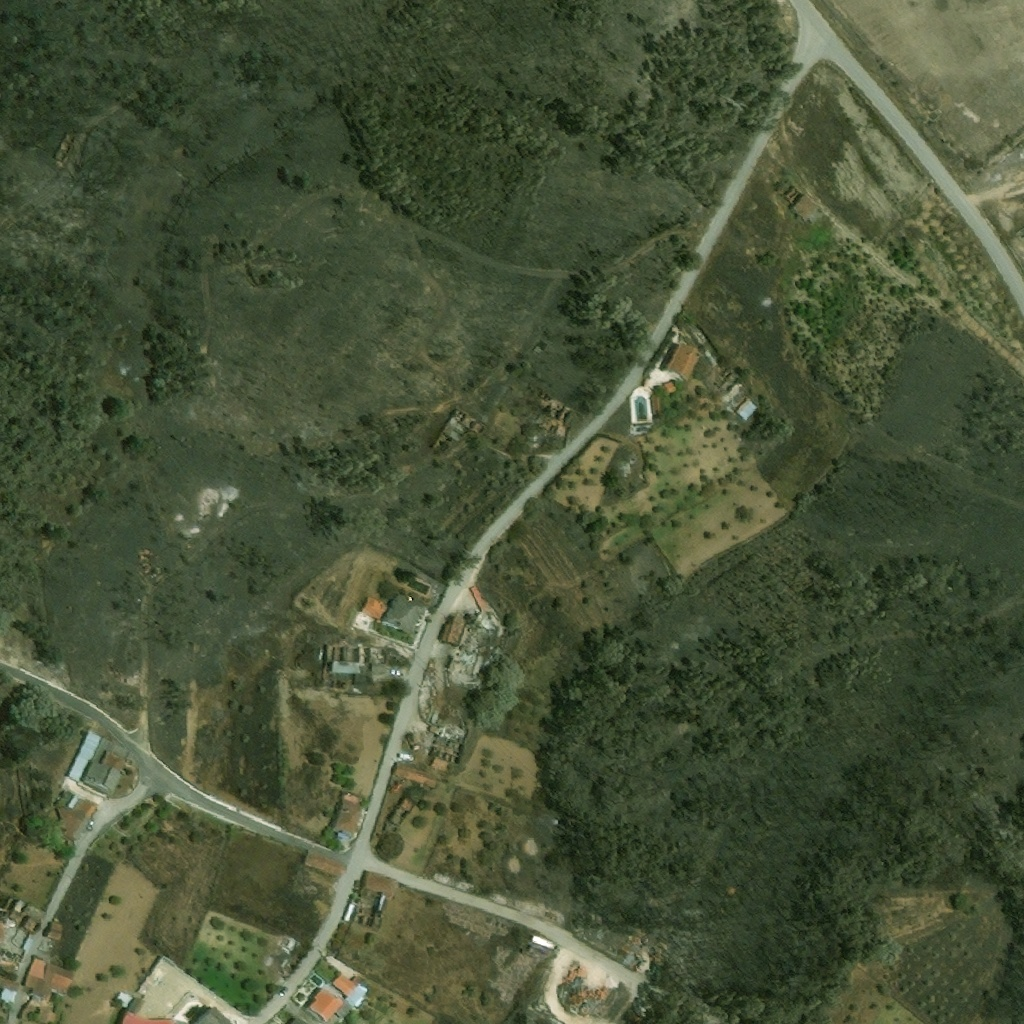0 no-damage: (83, 737, 131, 795), (54, 797, 98, 844), (62, 730, 101, 783), (380, 593, 425, 636), (303, 987, 344, 1023), (332, 793, 366, 836), (666, 343, 703, 381), (790, 195, 825, 227), (304, 851, 345, 877), (21, 956, 48, 994), (628, 386, 653, 424), (651, 380, 677, 416), (112, 1008, 174, 1023), (362, 871, 398, 895), (357, 591, 385, 620), (191, 1006, 233, 1023), (331, 975, 357, 996), (48, 973, 72, 995), (531, 936, 558, 951), (15, 1003, 35, 1022), (115, 990, 133, 1007), (0, 986, 18, 1003), (65, 793, 80, 810)
1 minor-damage: (734, 397, 759, 423)
2 major-damage: (325, 643, 362, 674), (10, 907, 41, 933), (363, 645, 390, 674), (0, 908, 9, 929)
3 destroyed: (427, 723, 475, 772), (462, 623, 493, 675), (429, 416, 466, 452), (572, 965, 614, 994), (435, 613, 471, 646), (292, 873, 336, 900), (264, 950, 295, 987), (387, 796, 417, 828), (713, 368, 744, 395), (776, 179, 804, 205), (442, 644, 467, 671), (352, 904, 379, 926), (557, 405, 578, 427), (471, 610, 495, 629), (280, 933, 302, 952), (11, 927, 29, 947), (1, 795, 10, 808)
